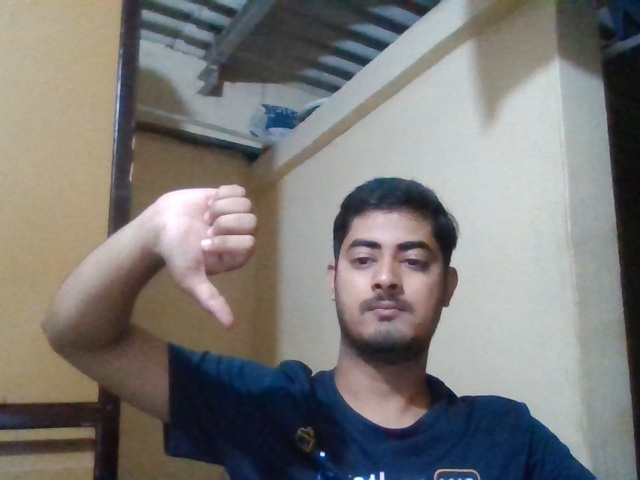ThumbsDown: (158, 185, 258, 330)
